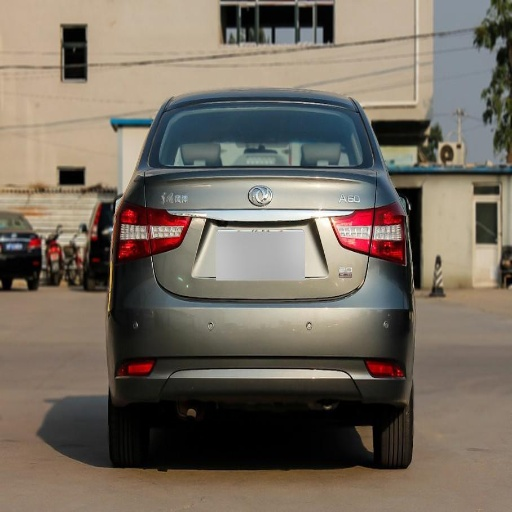back_bumper: (106, 256, 416, 406)
tailgate: (133, 168, 374, 301)
